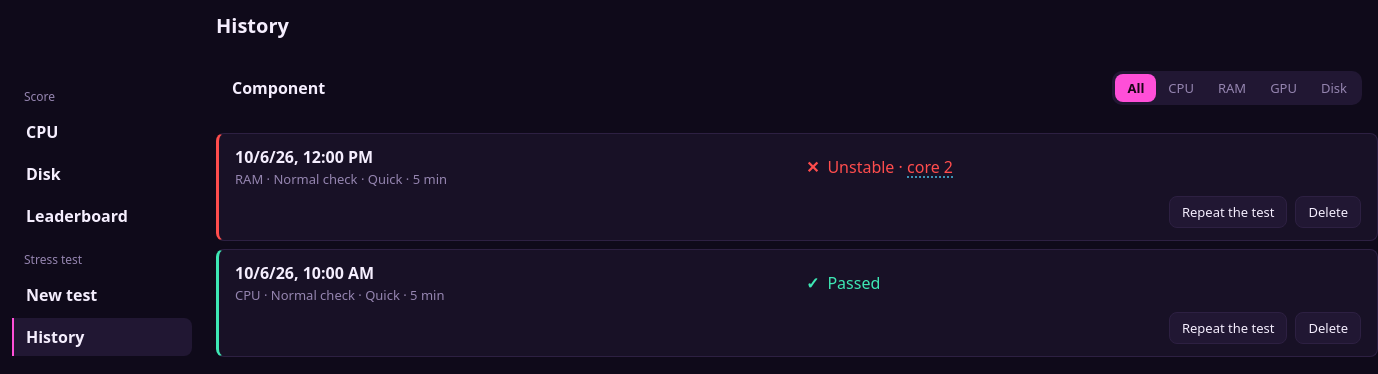
Test: filter_by_component
Expected: the number of list items is 2, [216, 133, 1377, 241]; [216, 249, 1377, 357]
Click the radio button labelled "CPU".
click(1181, 88)  # box [1168, 79, 1194, 97]
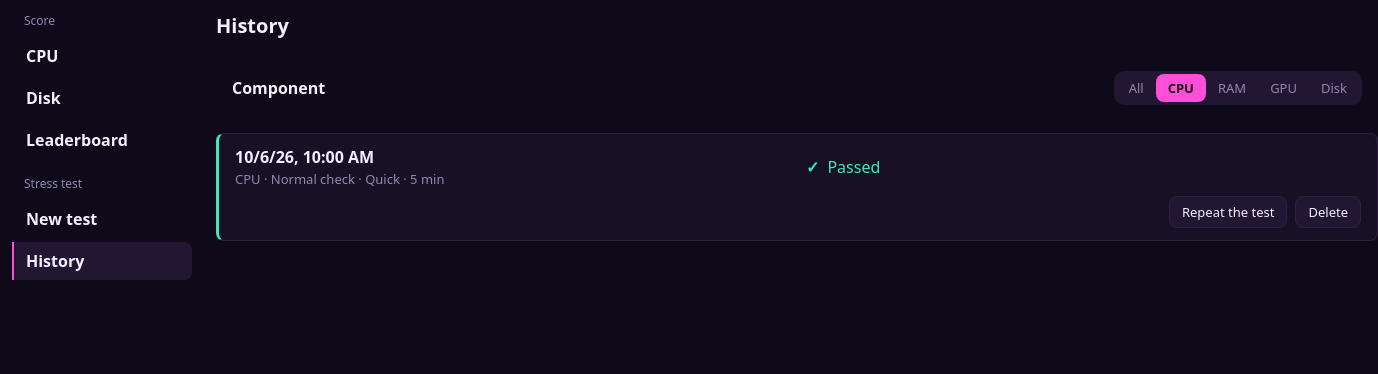
Expected: the list item does not show "RAM"
Expected: the number of list items is 1, [216, 133, 1377, 241]
